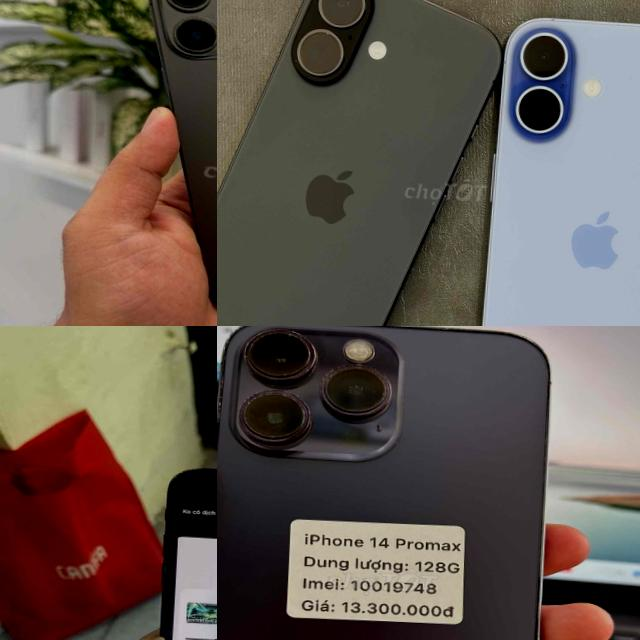gen_12_13: (125, 0, 217, 326)
gen_14: (217, 326, 575, 640)
gen_17: (217, 0, 501, 326), (479, 8, 640, 326), (297, 29, 343, 76), (492, 10, 504, 12)
gen_7_8: (126, 462, 217, 640)
scratch: (319, 357, 402, 433), (218, 382, 316, 446), (240, 328, 328, 388), (152, 547, 172, 603), (162, 466, 217, 482)
